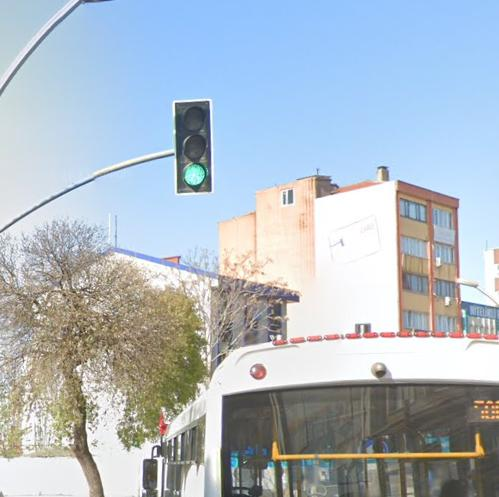greenlight: (179, 101, 213, 196)
